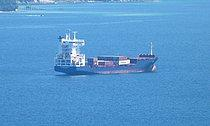Ship: (49, 27, 161, 78)
